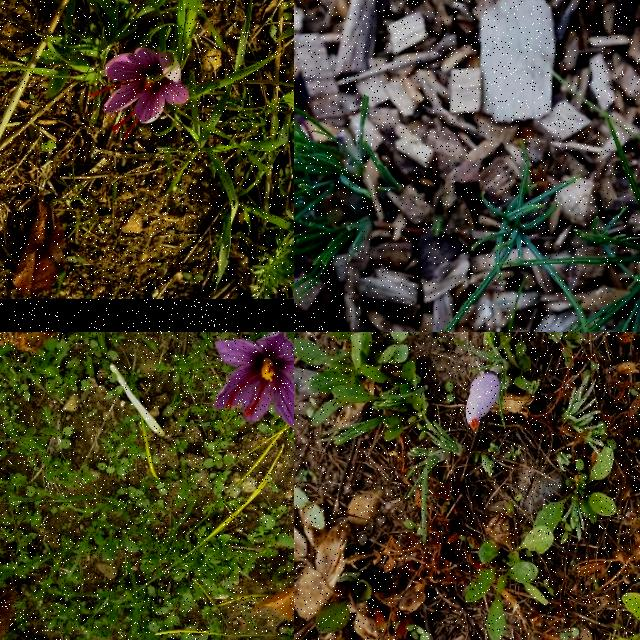flower: (89, 46, 191, 142), (212, 332, 294, 435), (465, 374, 501, 432)
